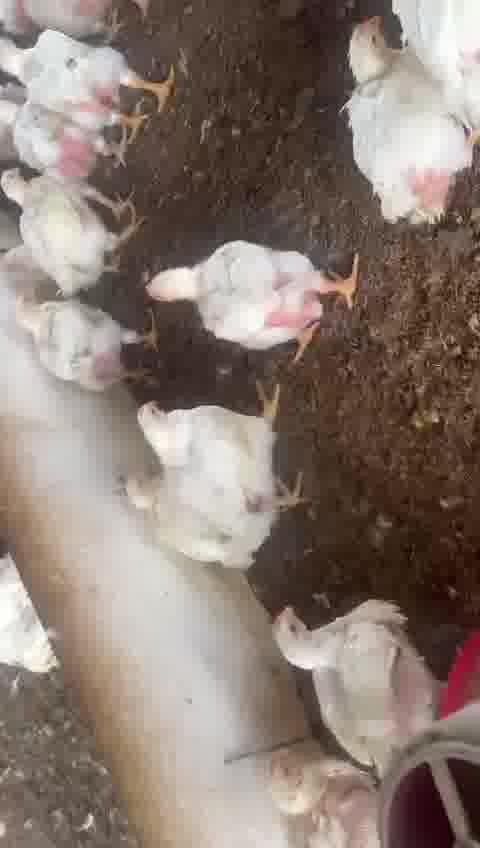AbNormal: (253, 744, 380, 848), (123, 461, 231, 567)
Normal: (275, 596, 454, 755), (332, 25, 469, 227), (141, 242, 364, 361), (136, 397, 319, 503), (0, 30, 182, 123), (7, 286, 165, 391), (0, 160, 126, 280), (7, 106, 133, 171)
